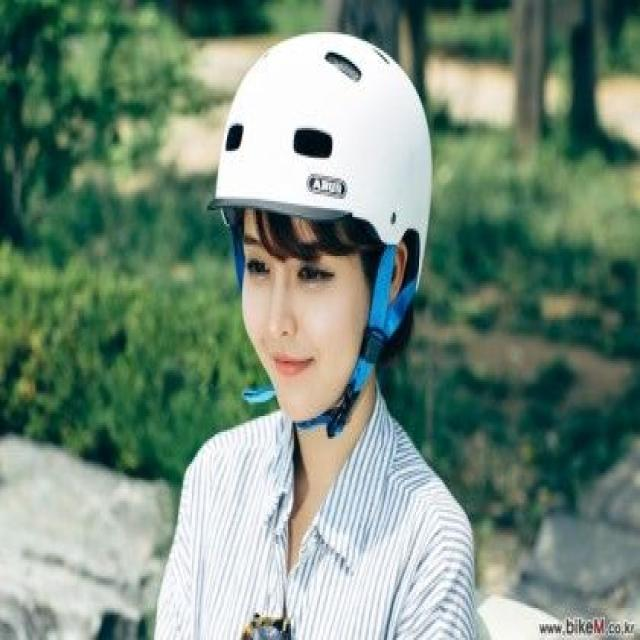Helmet: (210, 28, 434, 421)
